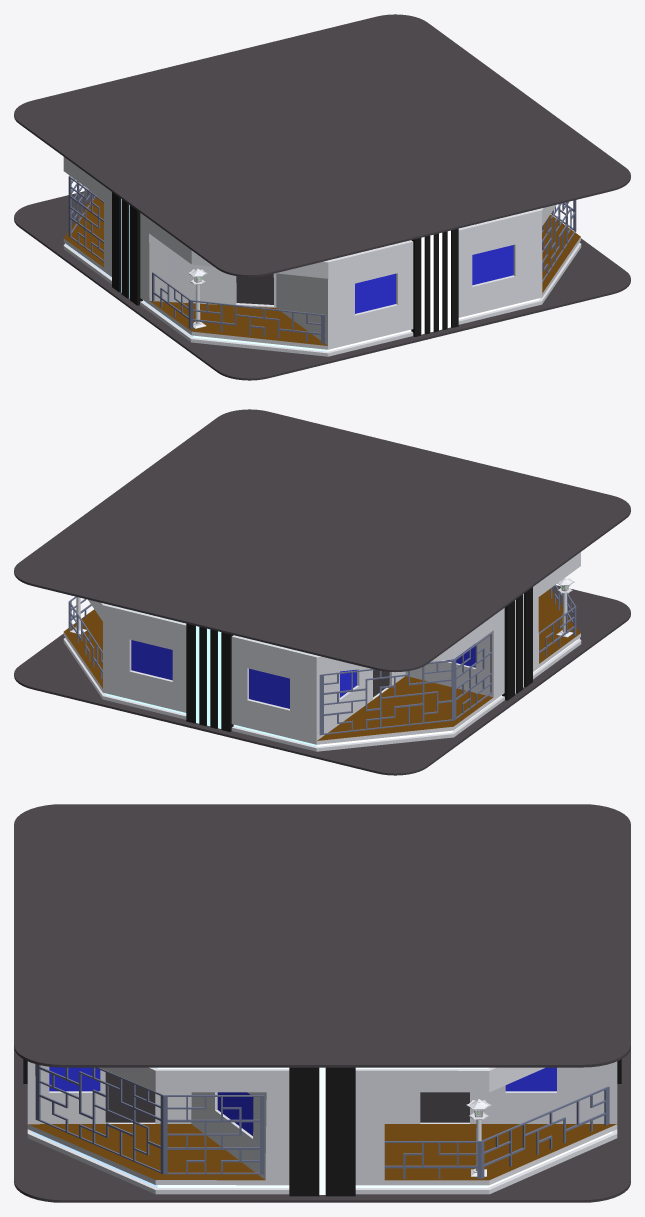
File: SM_B_i7_mid.fbx
3 renders of one model, top to bottom at view 1: azimuth 30°, elevation 25°; view 2: azimuth 150°, elevation 25°; view 3: azimuth 270°, elevation 25°, orthographic. The views are drawn at different scales.
Parts seen in each view (by area): view 1: SM_B_i7_mid; view 2: SM_B_i7_mid; view 3: SM_B_i7_mid.
Boxes of the visible parts, x1,y1,x2,y2 form: SM_B_i7_mid: [14, 14, 630, 380]; SM_B_i7_mid: [14, 409, 630, 775]; SM_B_i7_mid: [14, 804, 630, 1202].
Bounding box in the file's own units: 2100 × 518 × 2100.
